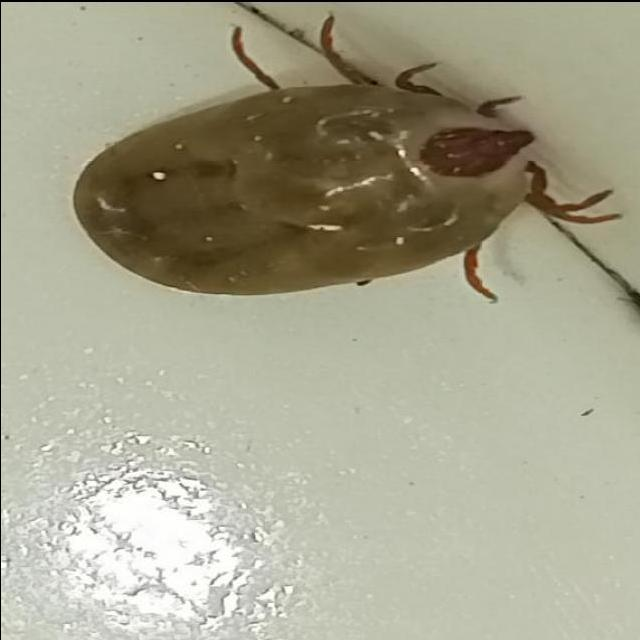Rhipicephalus Sanguineus-F-Fed: (72, 14, 623, 297)
